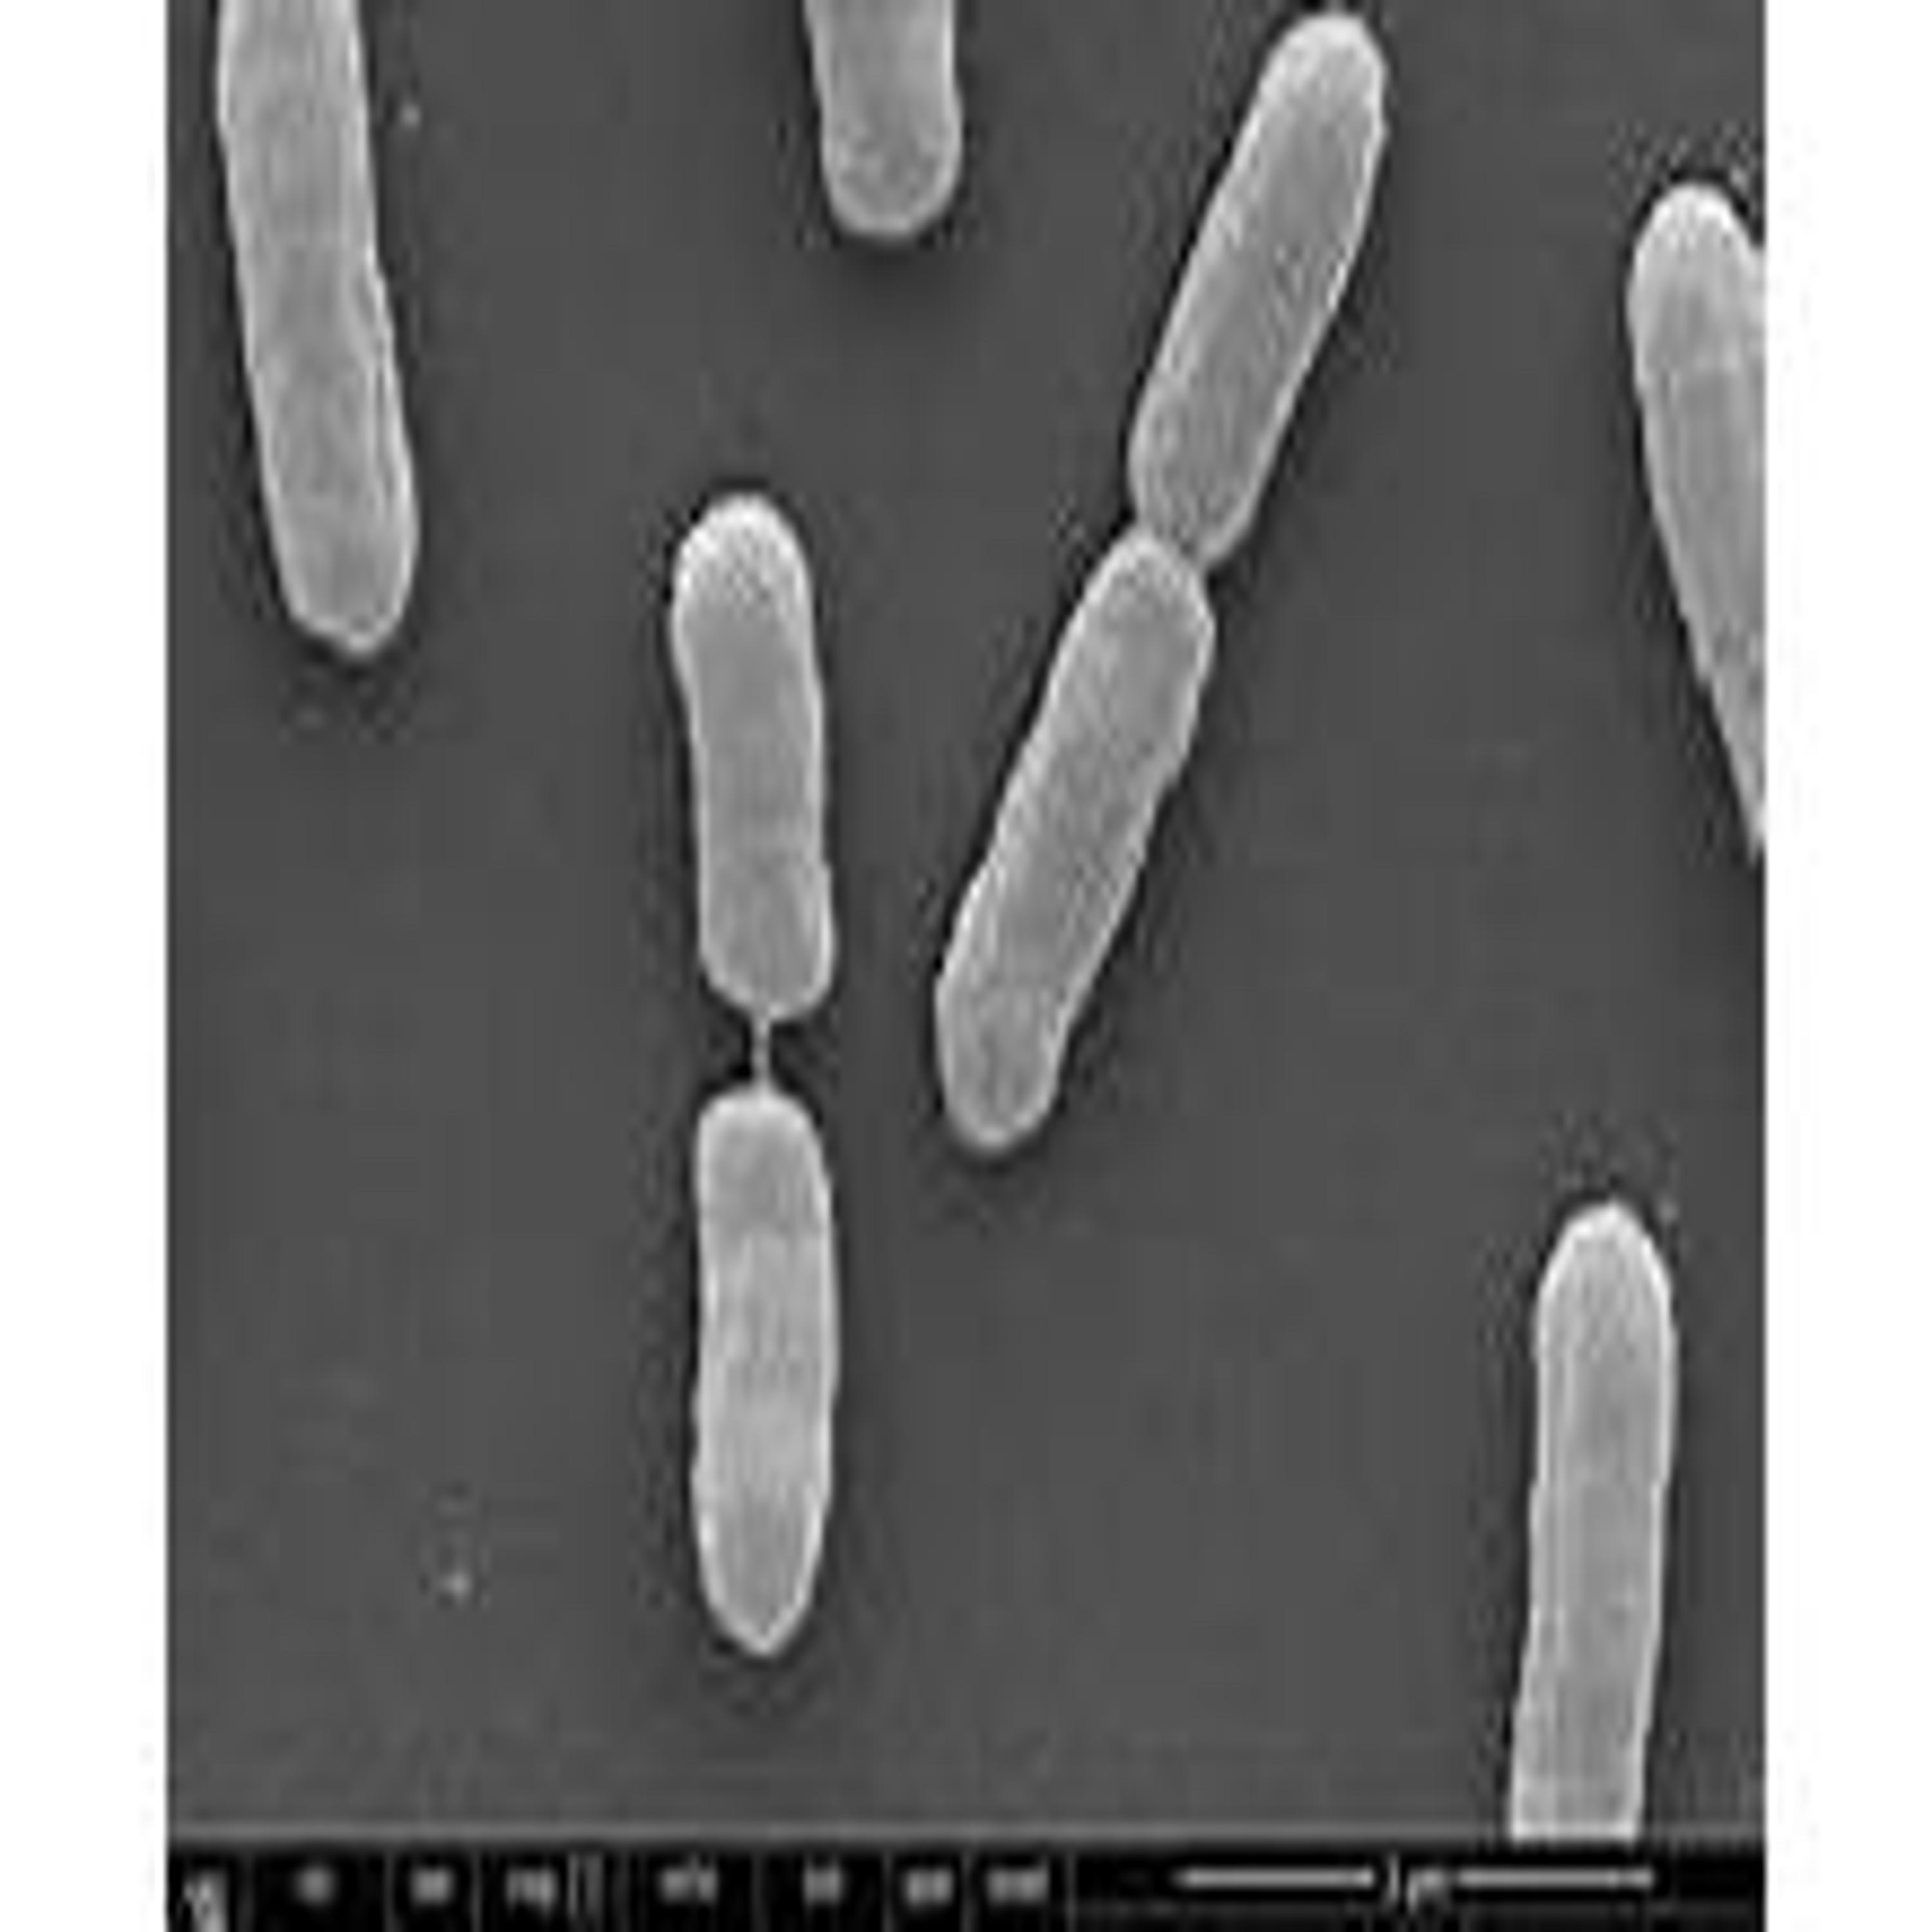salmonella_typhi5: (931, 524, 1223, 1168), (211, 0, 425, 658), (667, 490, 855, 1088), (685, 1026, 842, 1665)
